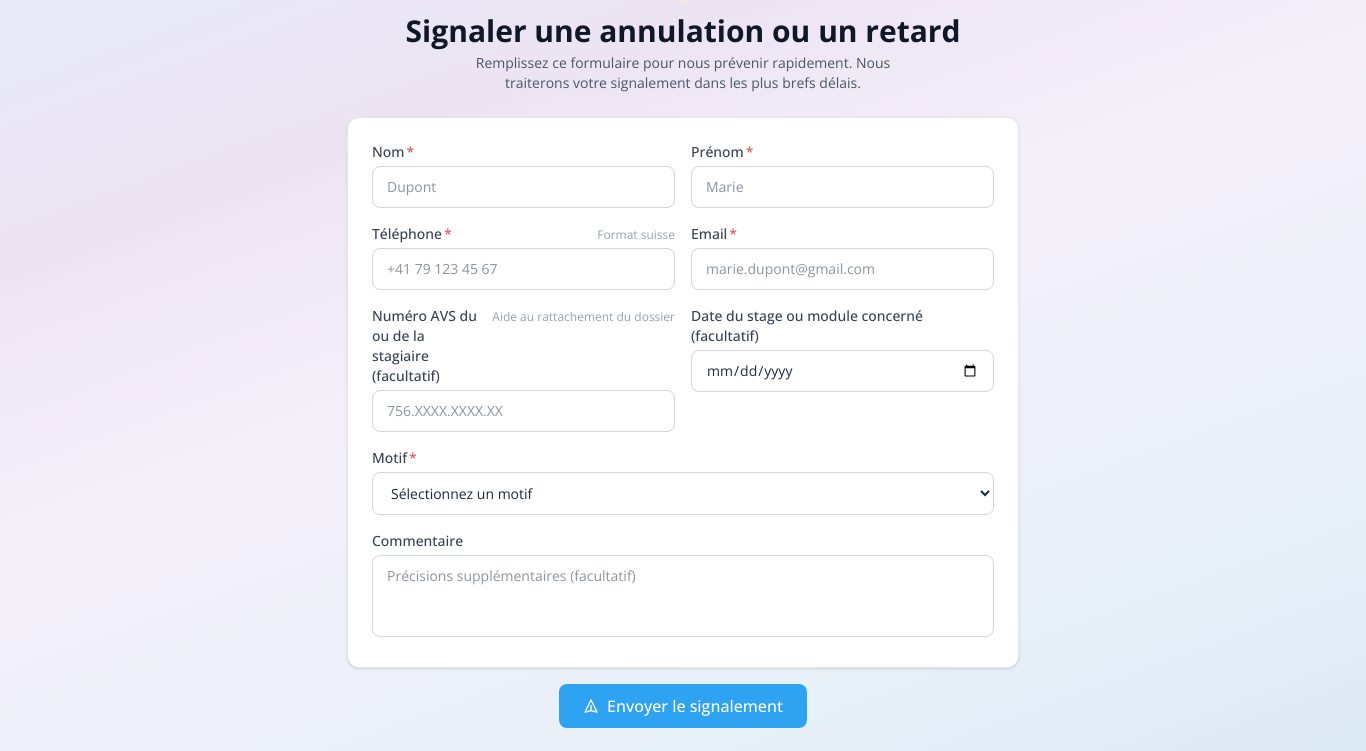
Scenario: FormulaireSignalement — validation › affiche des erreurs si le formulaire est soumis vide
(page scrolled)
Click the button "Envoyer le signalement" at (683, 706), box [559,684,807,728]
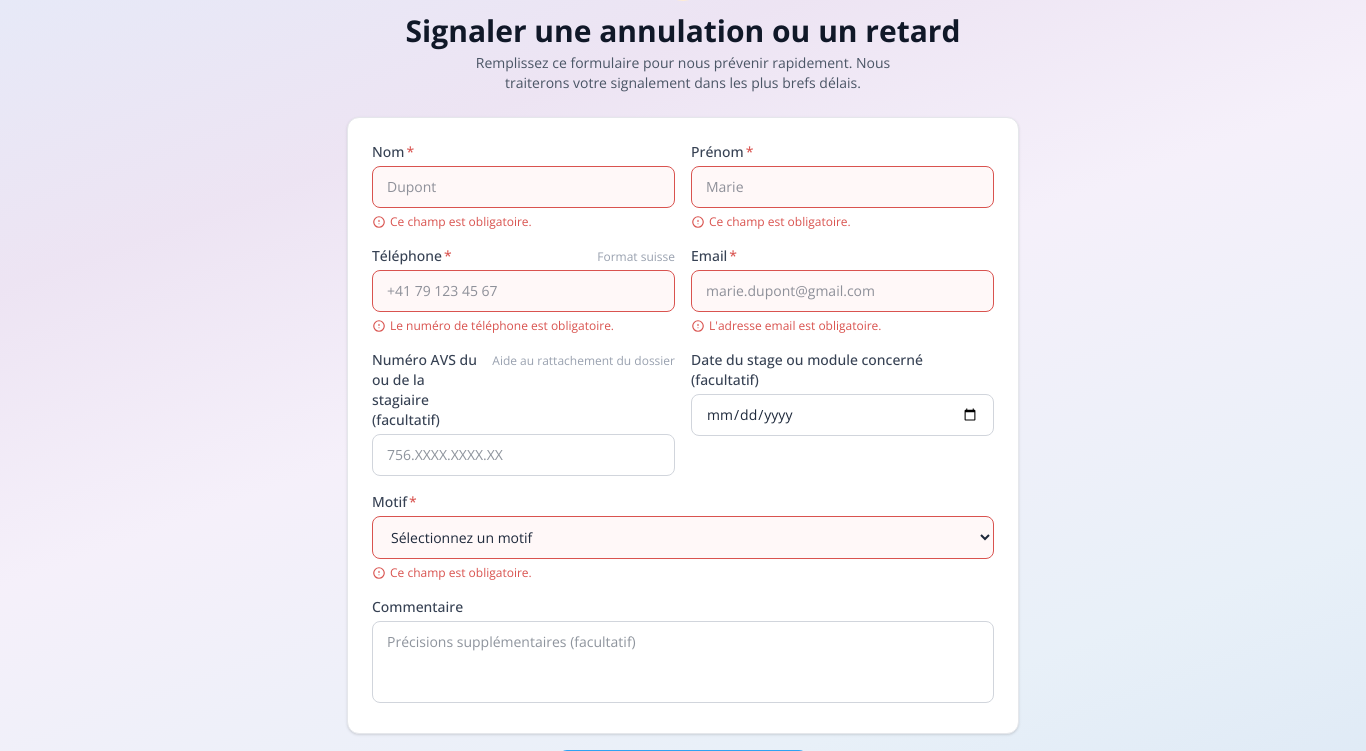
Check: the 1st text "Ce champ est obligatoire." is shown, box [372,213,532,230]
